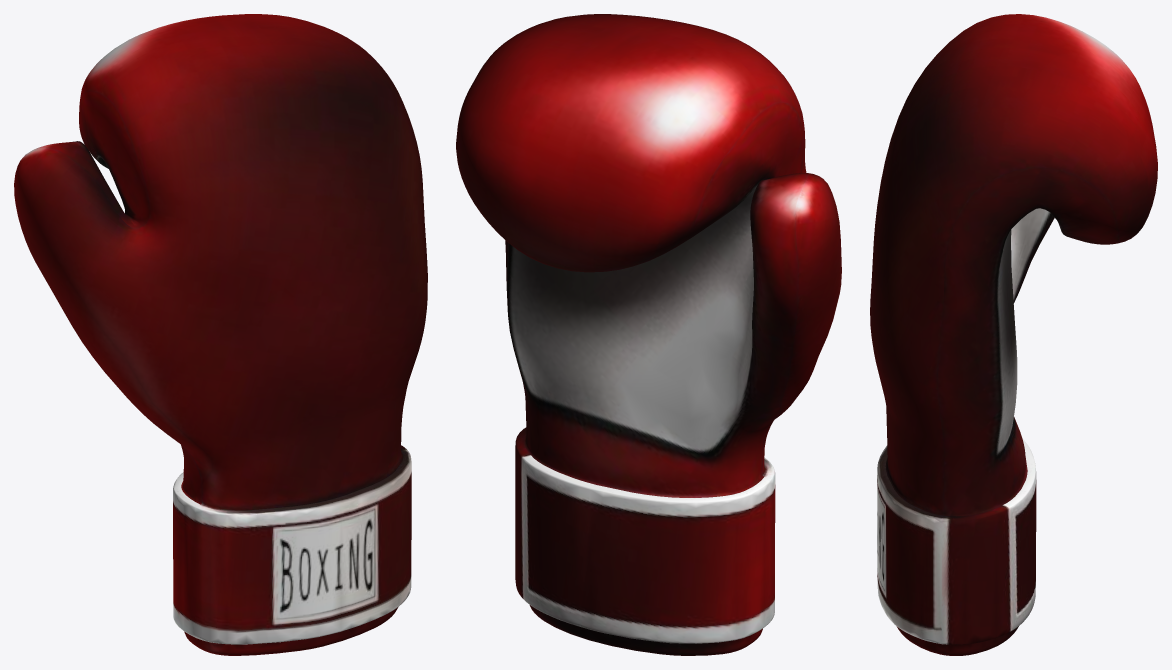
File: rukavice.glb
The picture shows the model from 3 angles, left to right: view 1: azimuth 30°, elevation 25°; view 2: azimuth 150°, elevation 25°; view 3: azimuth 270°, elevation 25°; orthographic projection. The views are drawn at different scales.
Parts seen in each view (by area): view 1: Node; view 2: Node; view 3: Node.
Boxes of the visible parts, <box> form: Node: <box>14,14,427,655</box>; Node: <box>456,14,841,655</box>; Node: <box>870,14,1157,655</box>.
Bounding box in the file's own units: 1.26 × 2 × 0.9488.
Materials: 1 (1 with a texture image).
